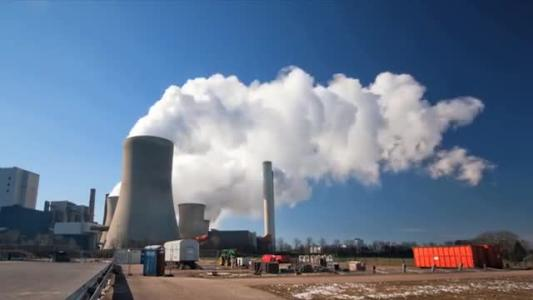dust: (112, 75, 490, 168), (174, 139, 260, 210)
